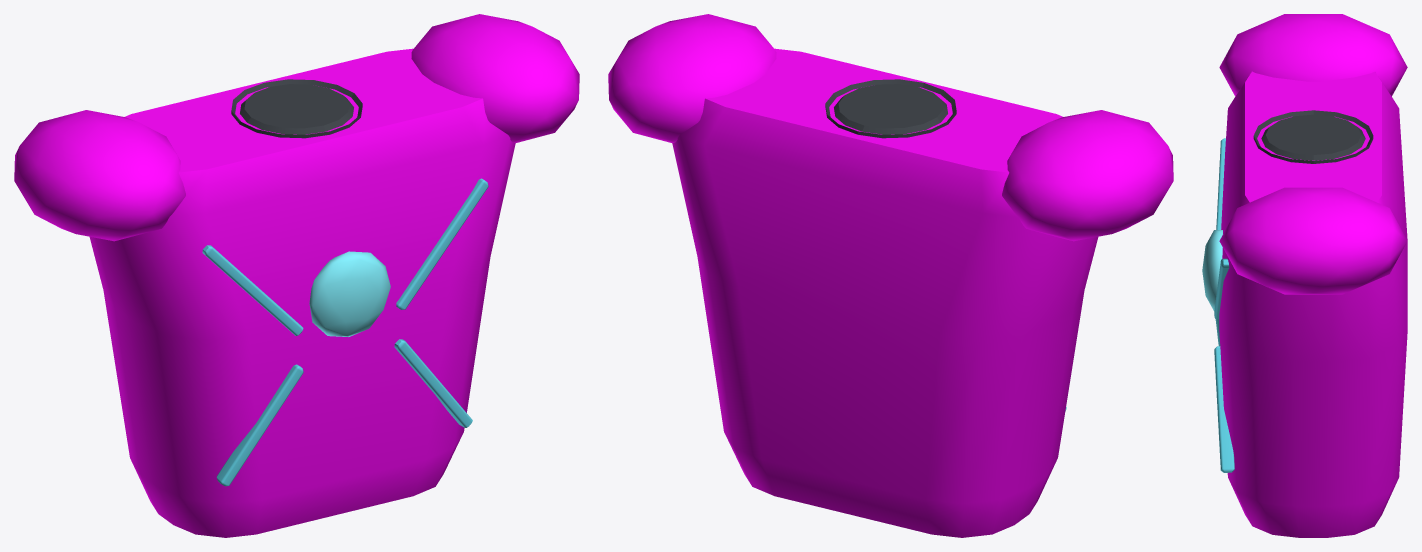
Rendered from objet_armure4_plastron.glb.
3 views of the same model, side by side, from view 1: azimuth 30°, elevation 25°; view 2: azimuth 150°, elevation 25°; view 3: azimuth 270°, elevation 25° (orthographic). The views are drawn at different scales.
Visible parts, largest first — view 1: plastron_teinte.006, plastron_visiere.002, plastron_teinte_sombre.006, plastron_lueur.002; view 2: plastron_teinte.006, plastron_teinte_sombre.006; view 3: plastron_teinte.006, plastron_teinte_sombre.006, plastron_visiere.002, plastron_lueur.002.
Part boxes in pixels (left/top/right/bottom): plastron_teinte.006: left=14, top=14, right=579, bottom=537; plastron_visiere.002: left=202, top=178, right=488, bottom=486; plastron_teinte_sombre.006: left=231, top=79, right=362, bottom=138; plastron_lueur.002: left=309, top=251, right=390, bottom=336; plastron_teinte.006: left=608, top=14, right=1173, bottom=537; plastron_teinte_sombre.006: left=825, top=79, right=956, bottom=138; plastron_teinte.006: left=1219, top=14, right=1407, bottom=537; plastron_teinte_sombre.006: left=1253, top=110, right=1373, bottom=163; plastron_visiere.002: left=1214, top=138, right=1234, bottom=472; plastron_lueur.002: left=1202, top=230, right=1222, bottom=310.
Size of the model in its own units: 0.3256 by 0.24 by 0.12.
